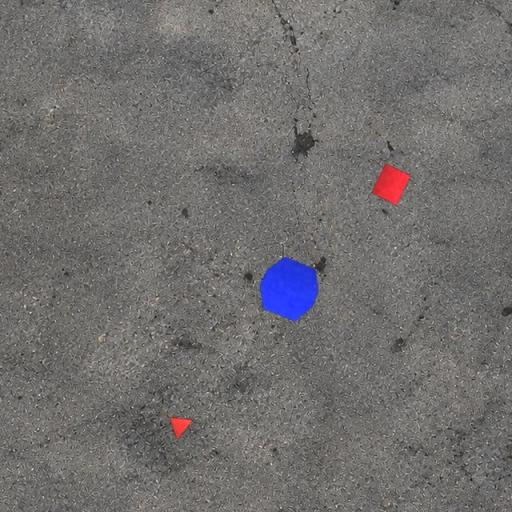RED_SQUARE: (371, 163, 412, 206)
